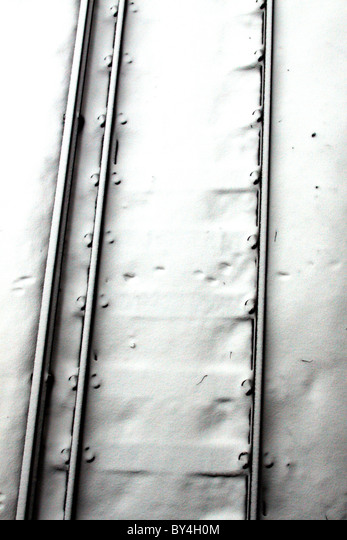fox: (194, 258, 233, 286)
